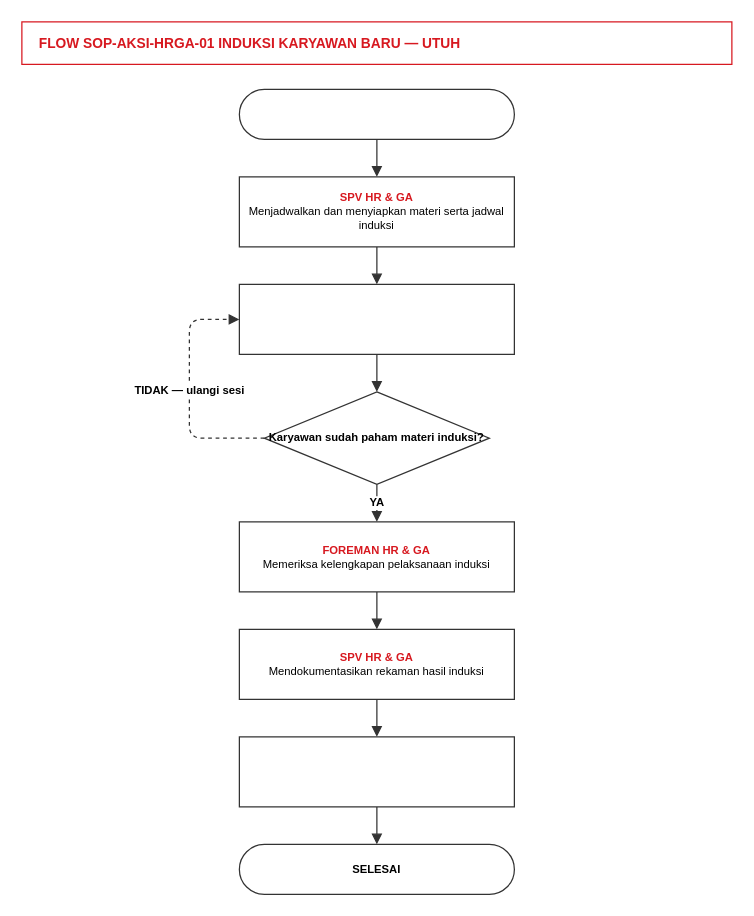
This 754x916 diagram has some shape labels left out. Each missing label, with the centre of its shape:
DIVISI USER Menerima karyawan baru untuk mulai bekerja di unit: [376,771]
MULAI — karyawan baru diterima: [376,113]
SPV HR & GA Melaksanakan sesi induksi dan memverifikasi pemahaman: [376,318]
